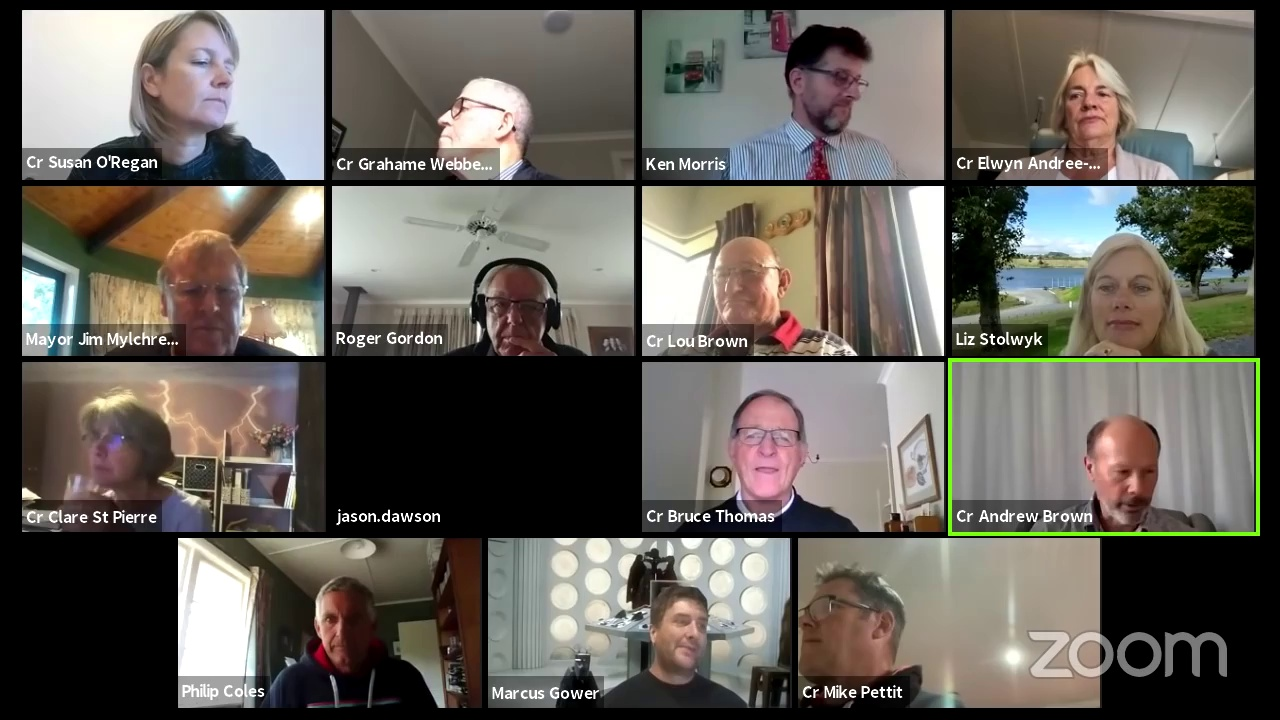Distracted: (131, 29, 235, 141), (799, 574, 902, 685), (80, 401, 194, 489), (1085, 416, 1175, 525), (786, 33, 867, 133), (431, 82, 522, 169)
Not Distracted: (149, 238, 261, 362), (720, 391, 816, 505), (692, 230, 798, 332), (466, 261, 553, 356), (1083, 244, 1162, 344), (1051, 55, 1134, 137), (311, 578, 375, 661)
